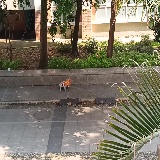fire: (62, 78, 72, 86)
